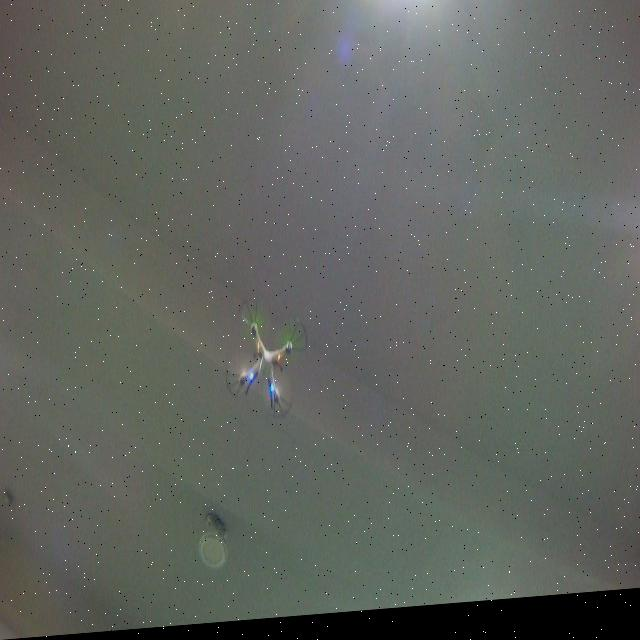drone: (222, 294, 310, 429)
